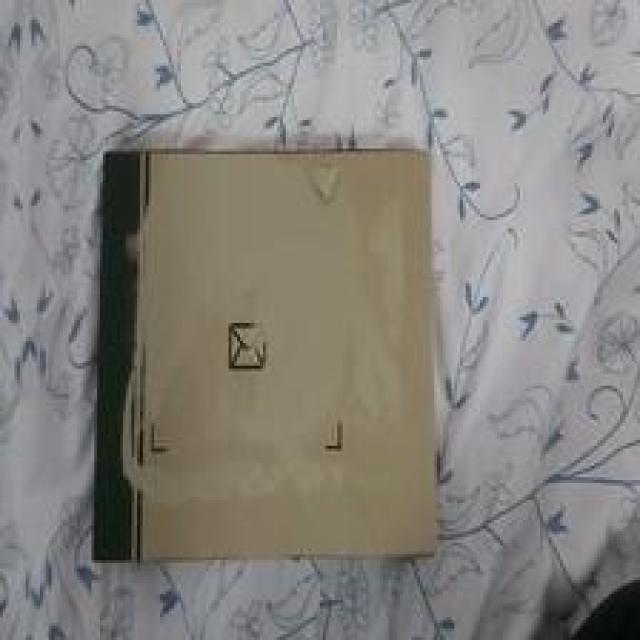PaperCardboard: (103, 150, 441, 560)
